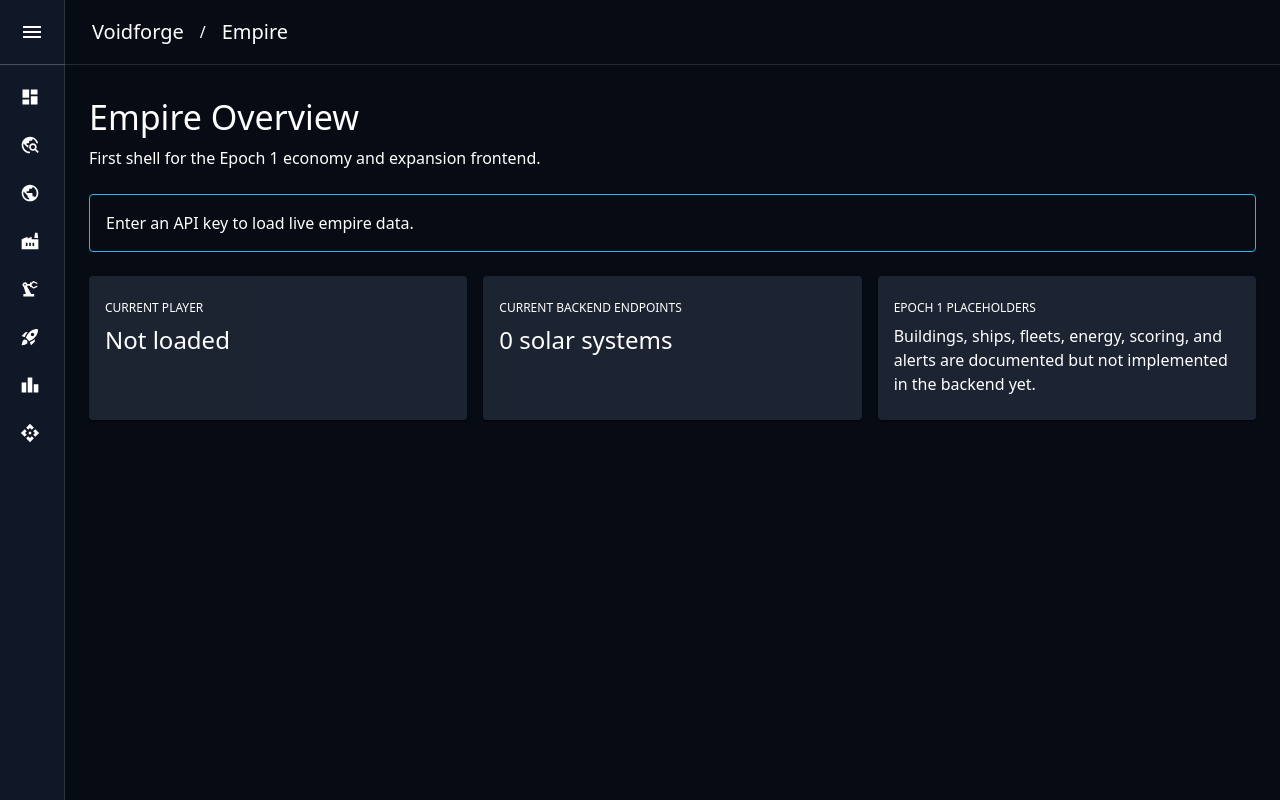
Test: AppShellLayout › navigates drawer links through the app router
The image size is (1280, 800).
Click the link named "Universe" at [30, 145], box 20,135 -> 40,155
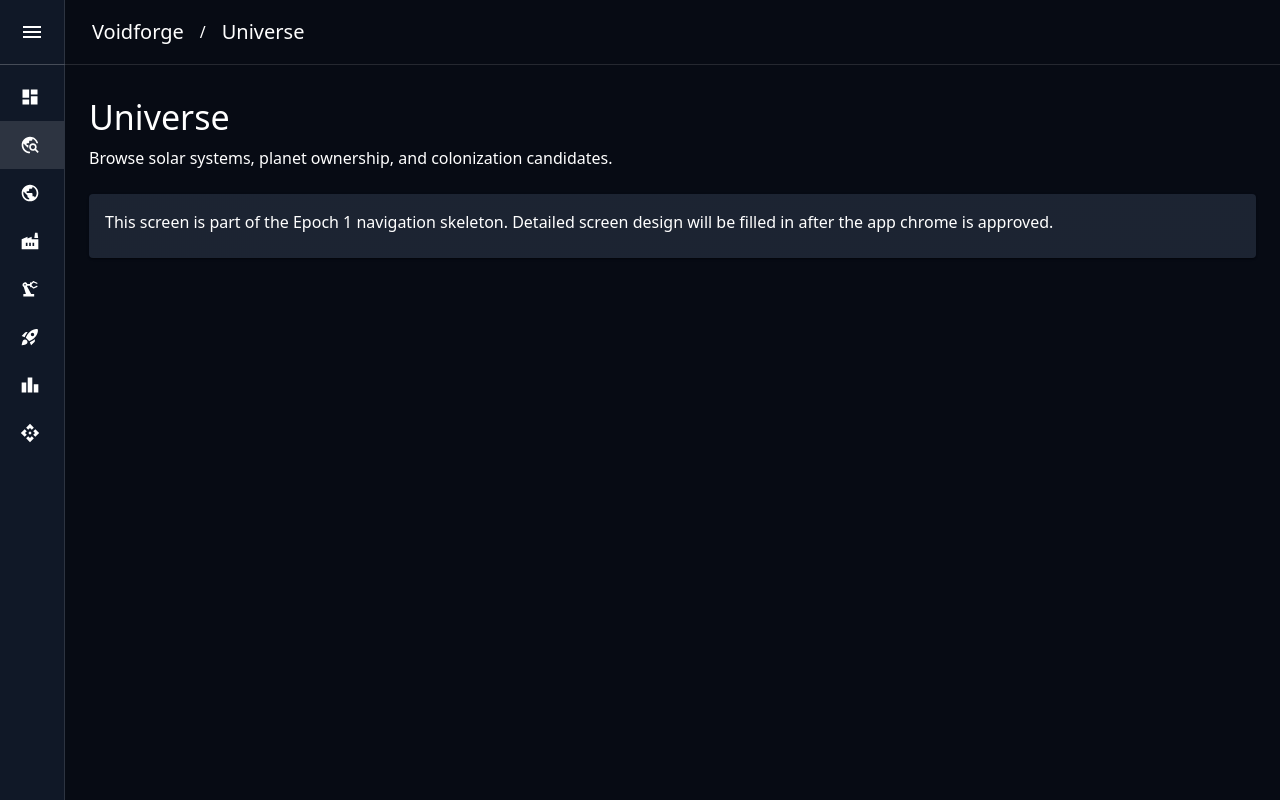
Expected: the text "Browse solar systems, planet ownership, and colonization candidates." is shown, 89,147 -> 612,169
